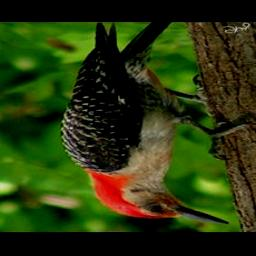Woodpecker: (58, 22, 256, 225)
